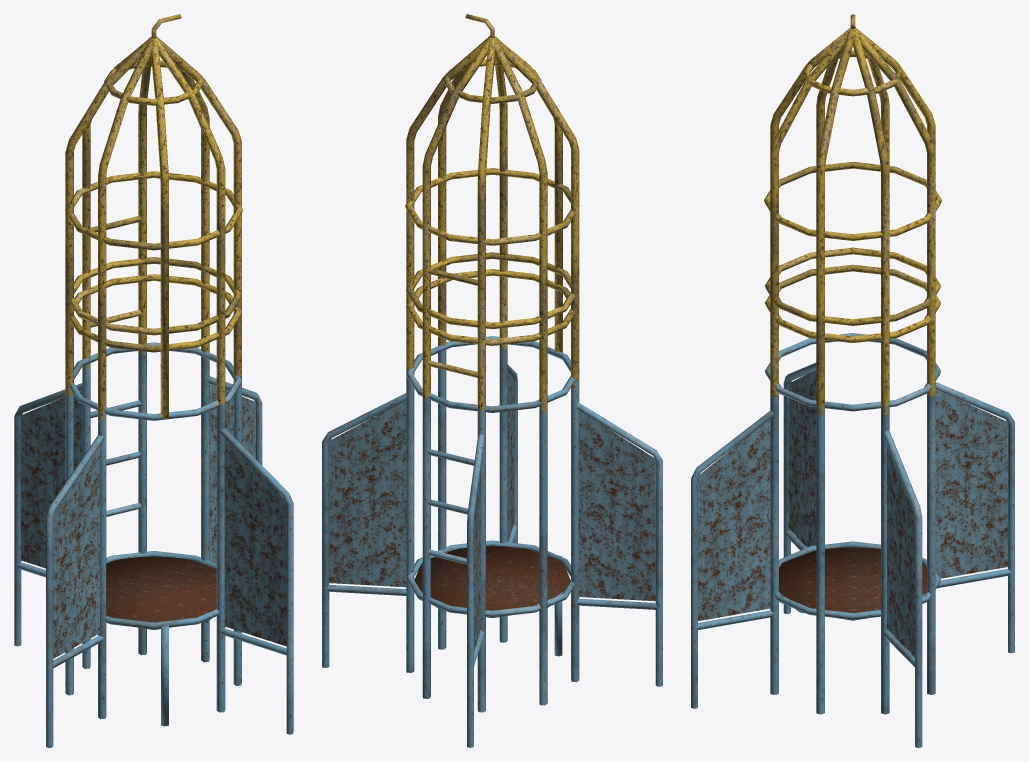
Rendered from playground_rocket_lod2_web.glb.
3 views of the same model, side by side, from view 1: azimuth 30°, elevation 25°; view 2: azimuth 150°, elevation 25°; view 3: azimuth 270°, elevation 25° (orthographic).
Parts seen in each view (by area): view 1: Rocket_Mesh; view 2: Rocket_Mesh; view 3: Rocket_Mesh.
Boxes of the visible parts, x1,y1,x2,y2 form: Rocket_Mesh: [14, 14, 293, 747]; Rocket_Mesh: [322, 14, 662, 747]; Rocket_Mesh: [691, 14, 1014, 747].
Size of the model in its own units: 1.72 by 3.91 by 1.72.
Materials: 4 (4 with a texture image).
